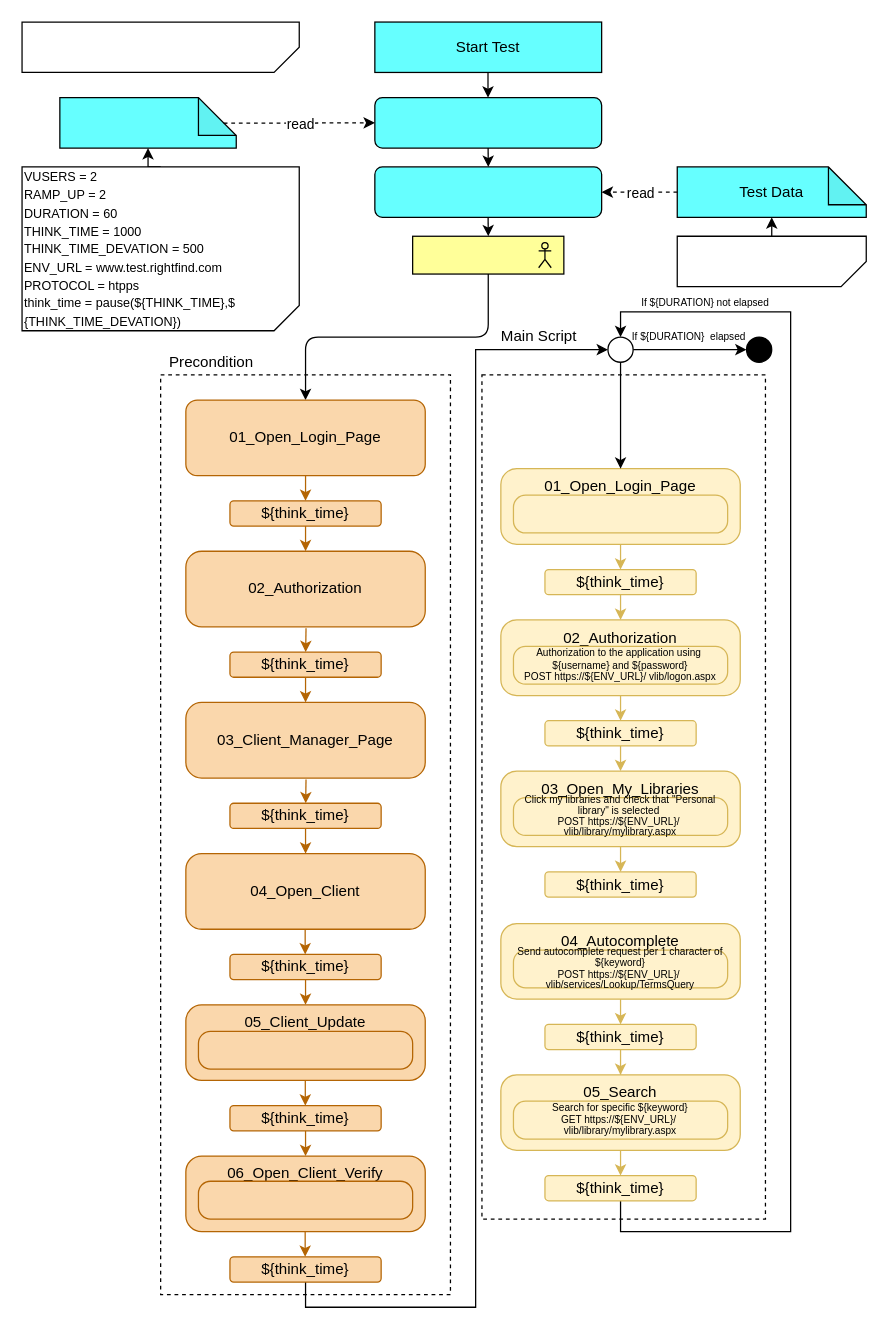
This 888x1339 diagram has some shape labels left out. The shapes that lost their labels are listed below. From the top down, each one's centre as x and y in pixels, then its label:
[160,46]: 3_2_RFE_UI_Search_In_User_Library
[147,122]: Load Model
[488,122]: Set Load
[488,191]: Set Test Data
[487,254]: vUser
[771,261]: searchphrase = ${searchphrase} username = ${username} password = ${password}
[620,513]: Open application main page - GET https://${ENV_URL}/
[305,1049]: "RightFind Insight" check "Full-text Search" check "Semantic Search" uncheck
[305,1199]: Verify Precondition setup
